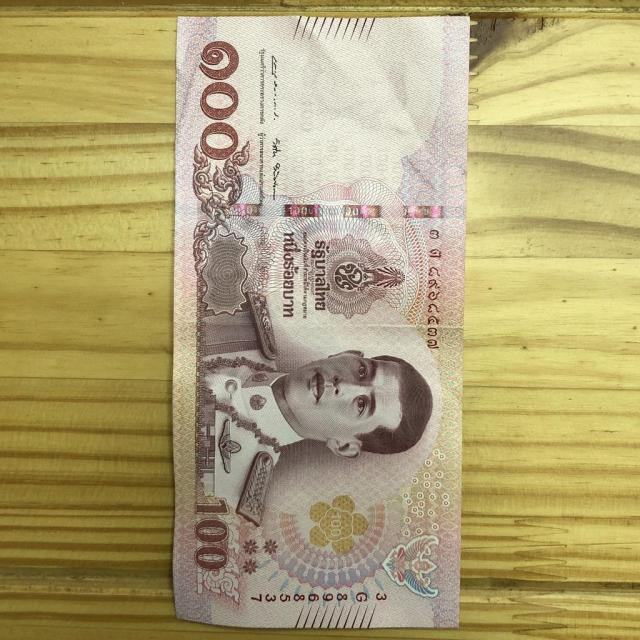THAI100: (172, 18, 469, 628)
